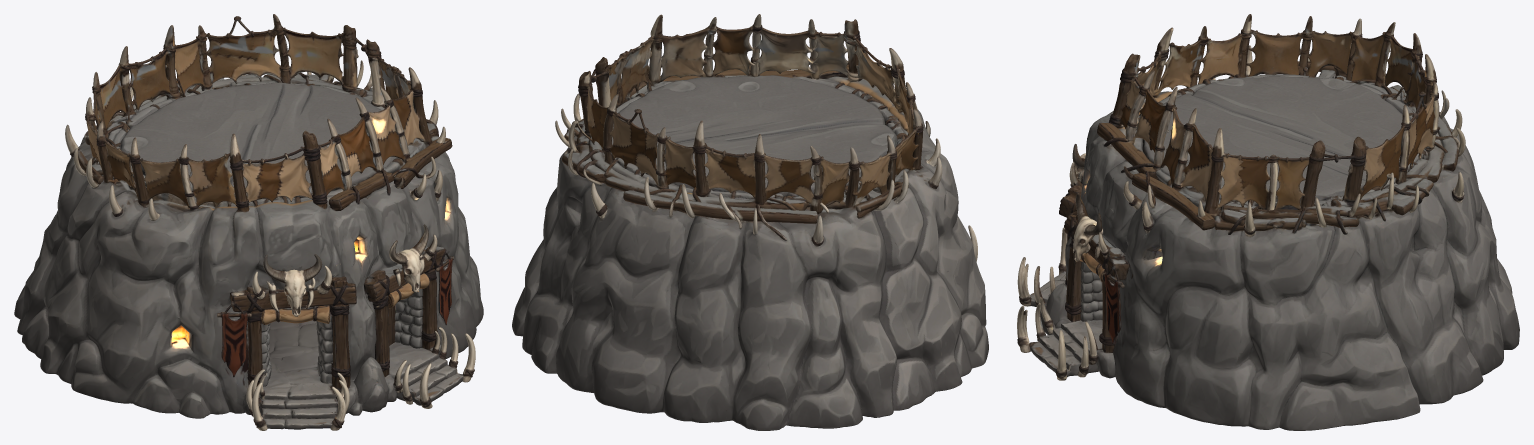
The model's file is TrollCaves_300k.glb.
The picture shows the model from 3 angles, left to right: view 1: azimuth 30°, elevation 25°; view 2: azimuth 150°, elevation 25°; view 3: azimuth 270°, elevation 25°; orthographic projection. The views are drawn at different scales.
Visible parts, largest first — view 1: Mesh_0; view 2: Mesh_0; view 3: Mesh_0.
Part boxes in pixels (x1,y1,x2,y2): Mesh_0: [14, 14, 483, 430]; Mesh_0: [512, 14, 988, 430]; Mesh_0: [1017, 14, 1519, 430].
Size of the model in its own units: 1.86 by 1.11 by 1.9.
Materials: 1 (1 with a texture image).
